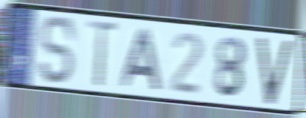2: (168, 31, 204, 97)
8: (213, 35, 248, 100)
A: (120, 27, 164, 93)
S: (38, 14, 78, 87)
T: (86, 17, 120, 89)
V: (256, 36, 295, 107)
